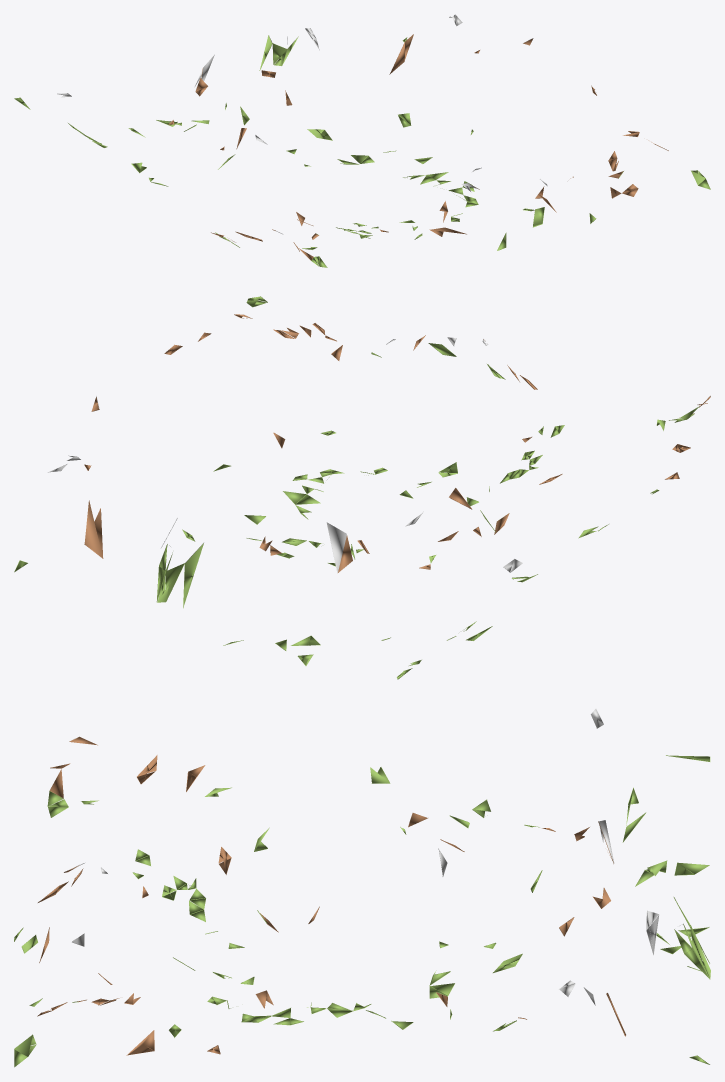
The model's file is newmesh4.glb.
3 renders of one model, top to bottom at view 1: azimuth 30°, elevation 25°; view 2: azimuth 150°, elevation 25°; view 3: azimuth 270°, elevation 25°, orthographic. The views are drawn at different scales.
Parts seen in each view (by area): view 1: Grid; view 2: Grid; view 3: Grid.
Part boxes in pixels (left/top/right/bottom): Grid: left=14, top=14, right=710, bottom=267; Grid: left=14, top=296, right=710, bottom=679; Grid: left=14, top=709, right=710, bottom=1067.
Size of the model in its own units: 20.01 by 4.16 by 20.02.
